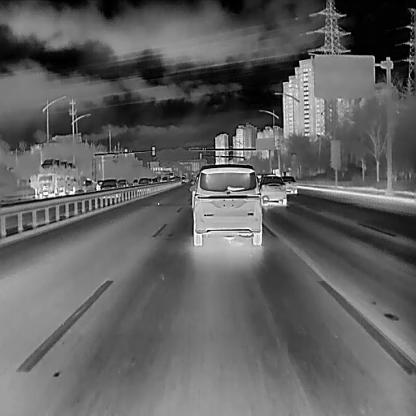car: (187, 163, 263, 246), (258, 173, 286, 207), (100, 178, 118, 193), (282, 175, 296, 194), (80, 178, 96, 191), (138, 176, 150, 188), (118, 178, 128, 189), (151, 176, 159, 184), (161, 174, 168, 182), (132, 178, 138, 184), (180, 176, 186, 182), (168, 176, 174, 182)
truck: (35, 158, 78, 196)
